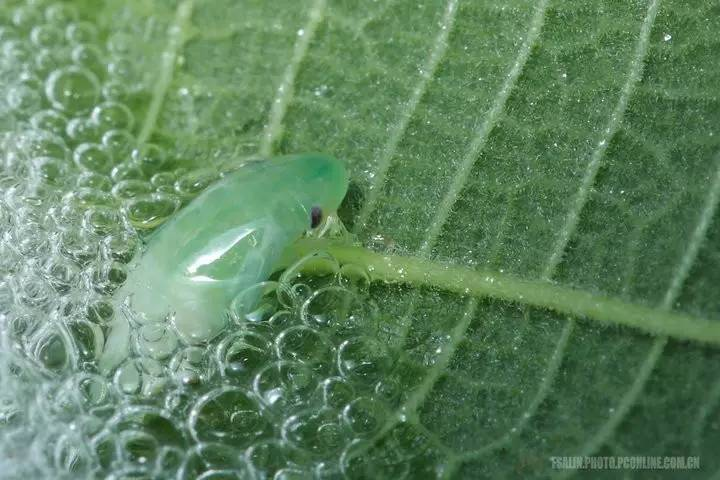Cicadellidae: (93, 148, 352, 388)
